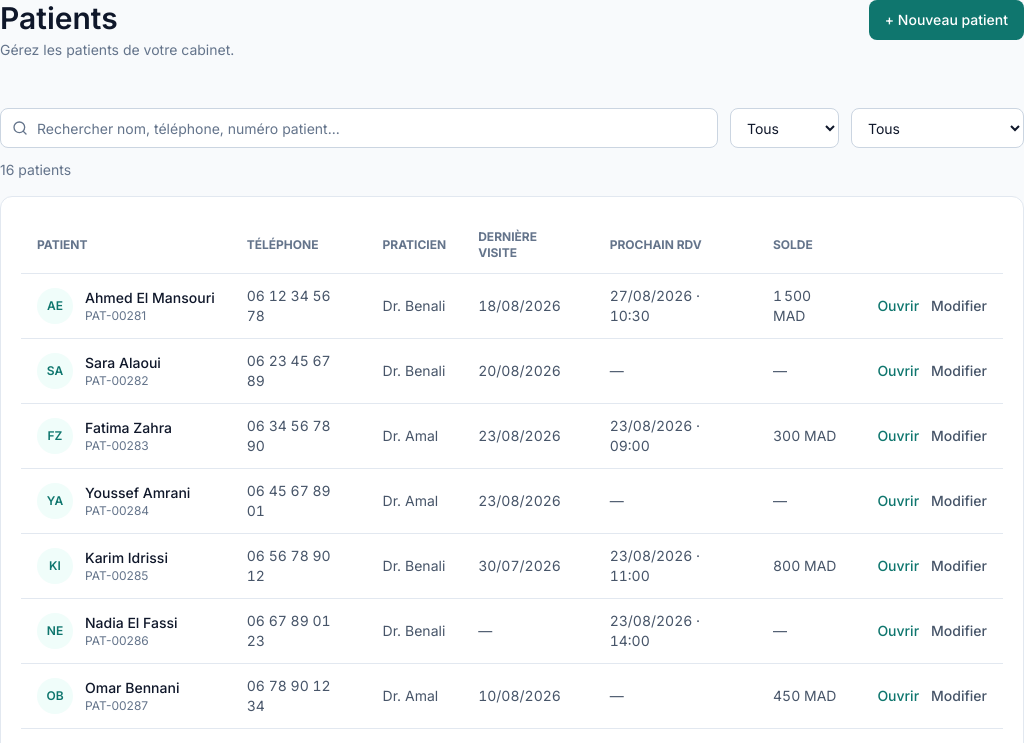
Test case: PatientsPage › filters by practitioner (7)
Select "Dr. Amal" in the dropdown named "Praticien" at (784, 128), box [730,108,839,148]
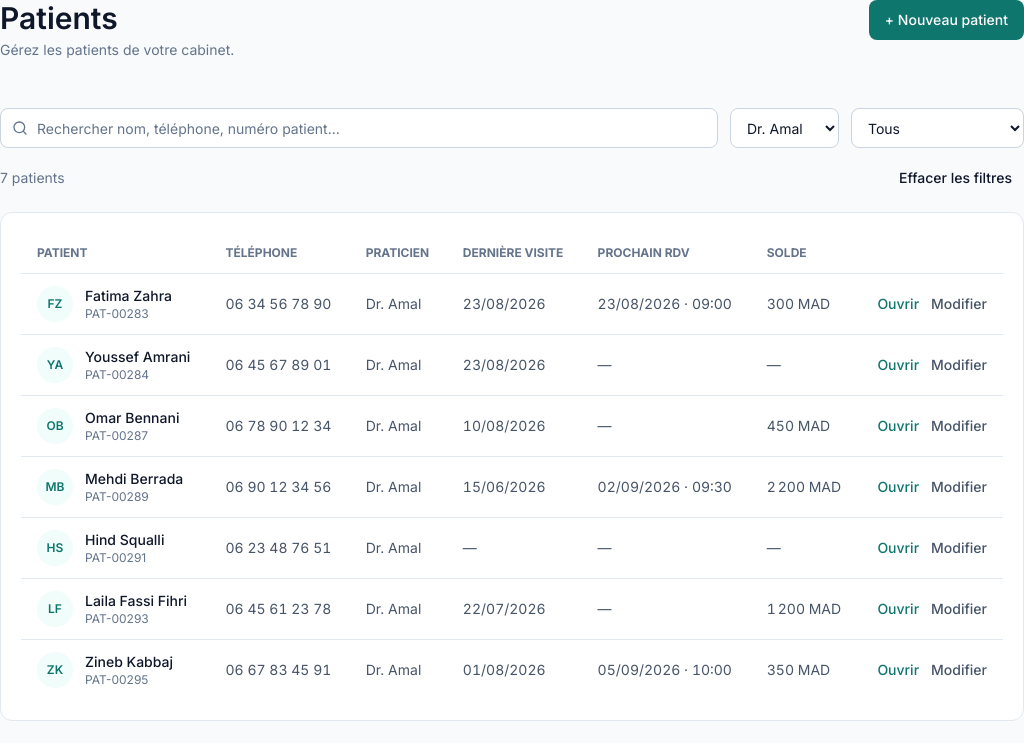
Expected: the text "Fatima Zahra" is shown, [85,286,172,306]
Expected: the text "Ahmed El Mansouri" is gone
